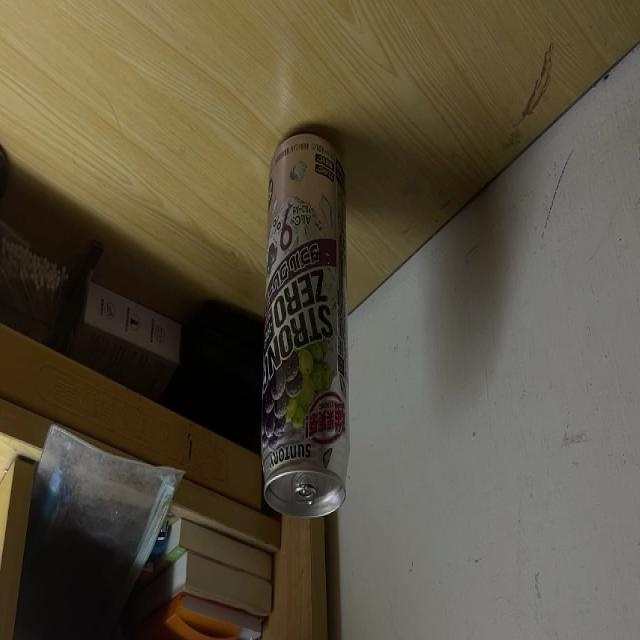Liquor: (262, 132, 348, 520)
